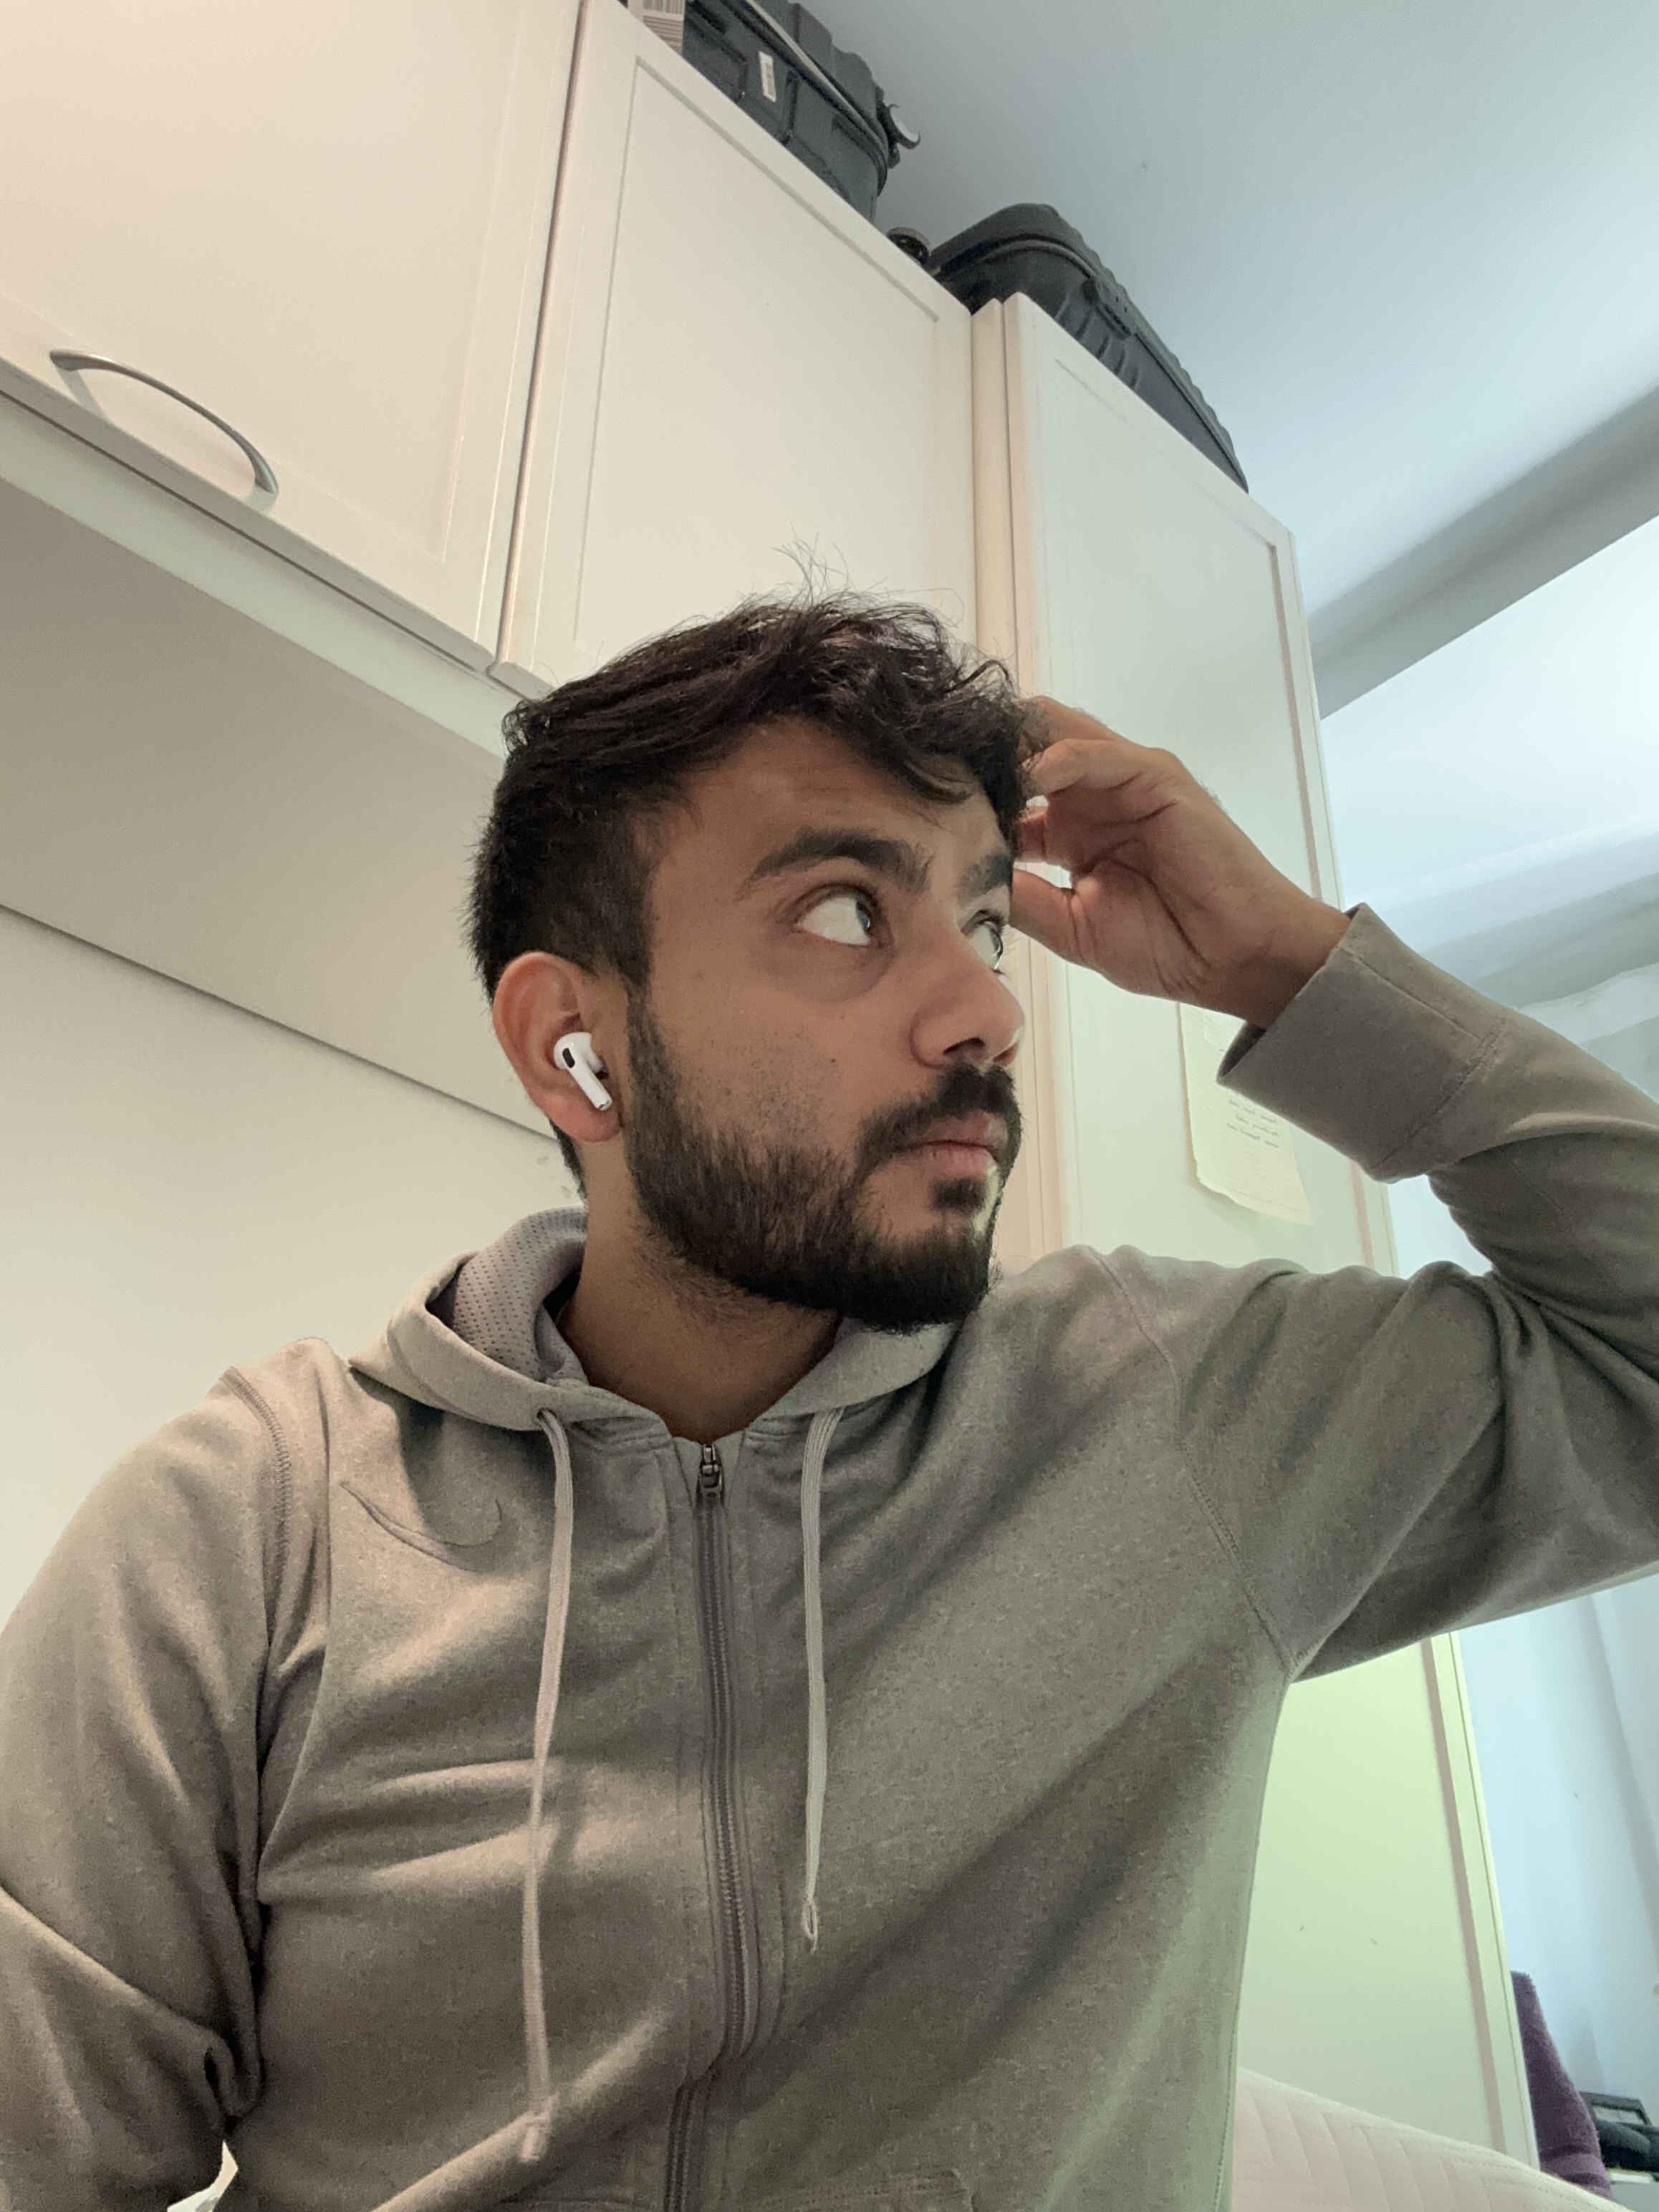brain: (3, 571, 1654, 2203), (917, 199, 1253, 496)
